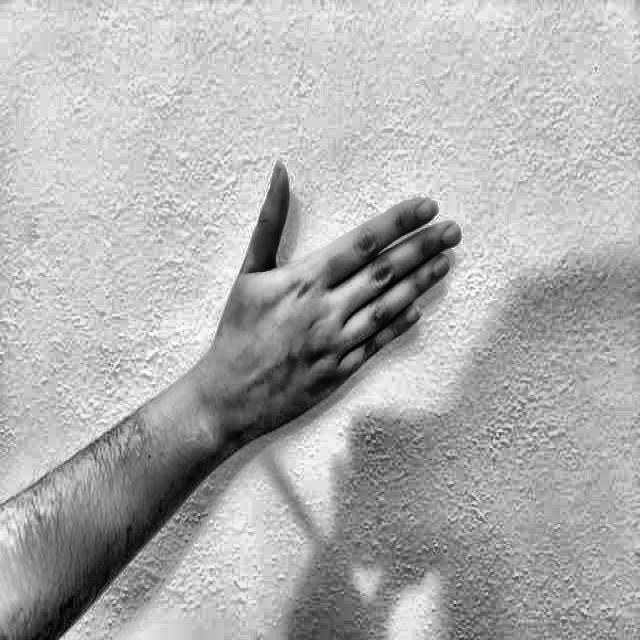Aa: (194, 99, 489, 476)
